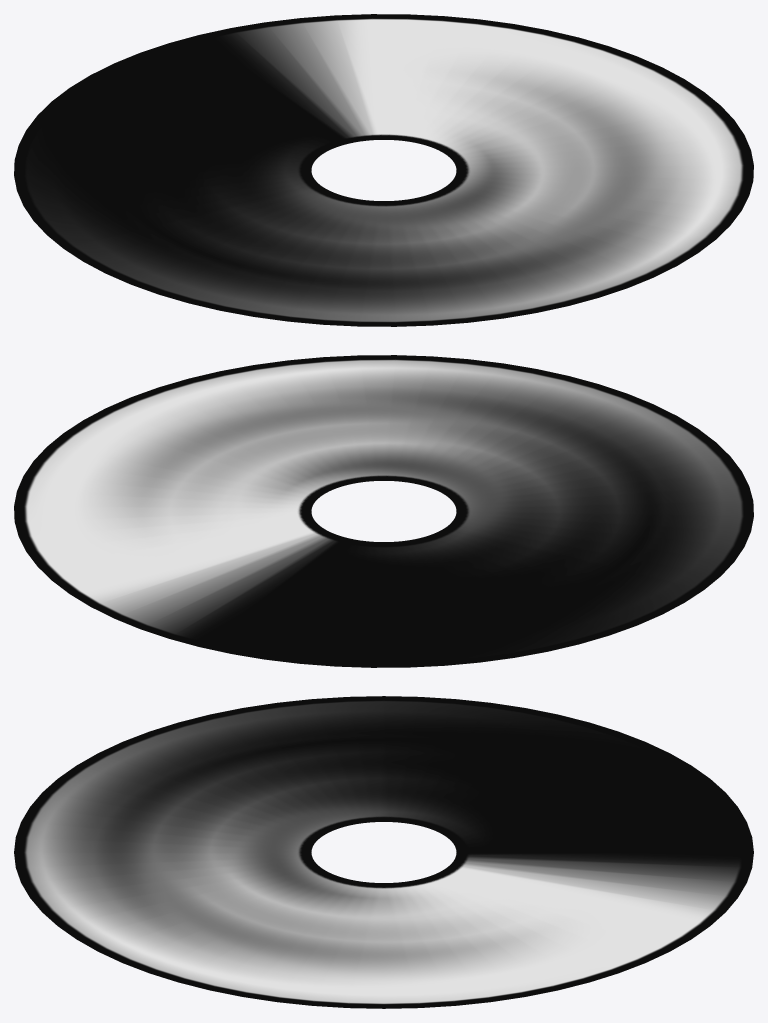
File: slash_disk_2.fbx
3 views of the same model, one above another, from view 1: azimuth 30°, elevation 25°; view 2: azimuth 150°, elevation 25°; view 3: azimuth 270°, elevation 25° (orthographic).
Visible parts, largest first — view 1: Cylinder; view 2: Cylinder; view 3: Cylinder.
Boxes of the visible parts, x1=… form: Cylinder: x1=14, y1=14, x2=753, y2=326; Cylinder: x1=14, y1=355, x2=753, y2=667; Cylinder: x1=14, y1=696, x2=753, y2=1008.
Size of the model in its own units: 2 by 0 by 2.
